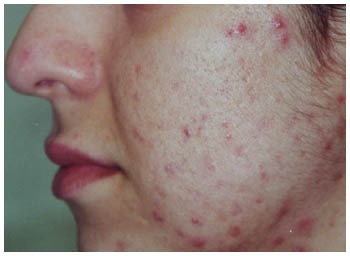Acne: (88, 22, 332, 242)
